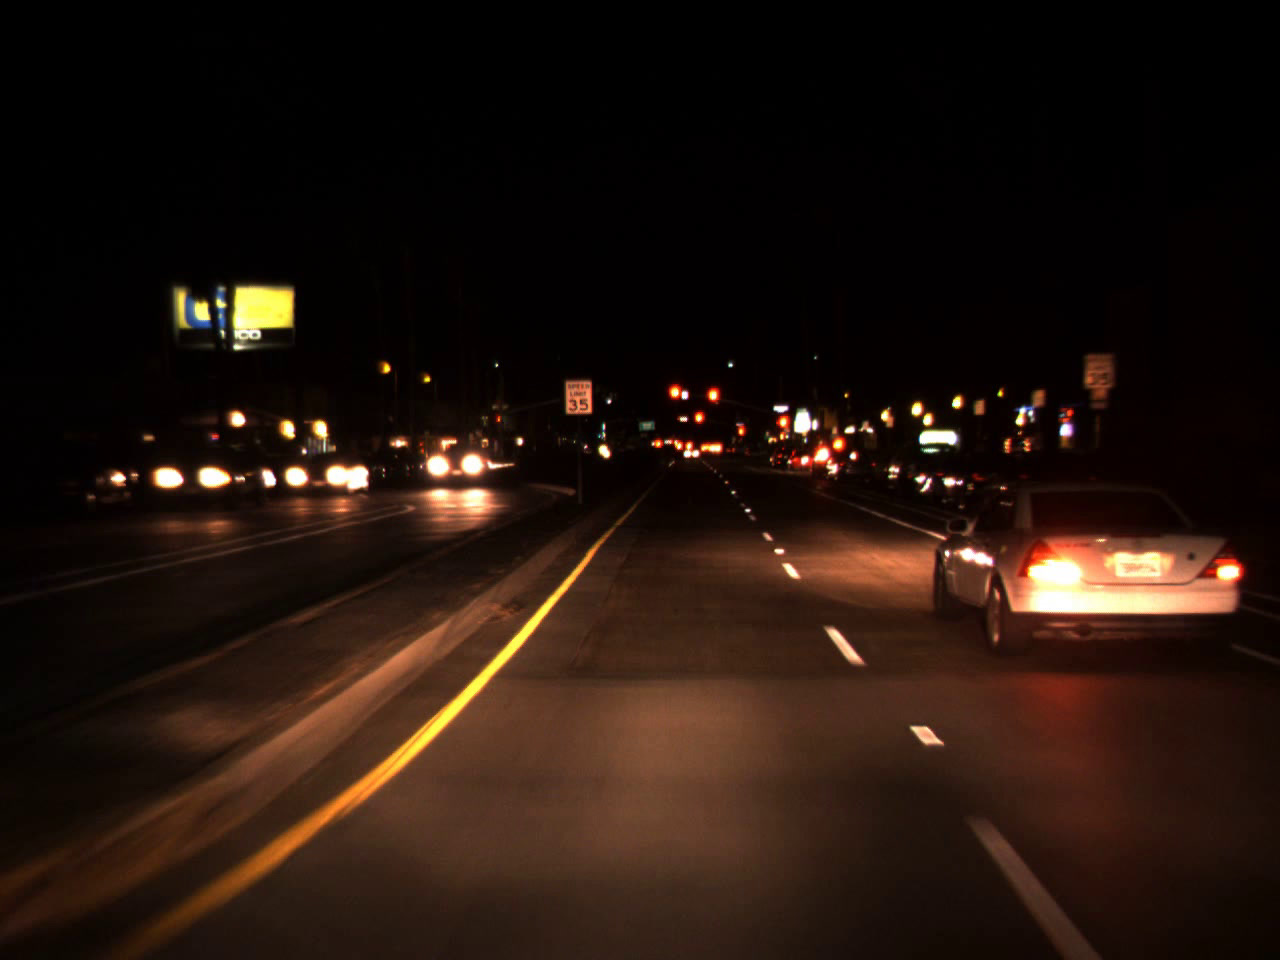stop: (772, 412, 793, 449), (667, 381, 685, 416), (705, 386, 721, 418), (692, 409, 705, 436), (737, 423, 744, 447)
